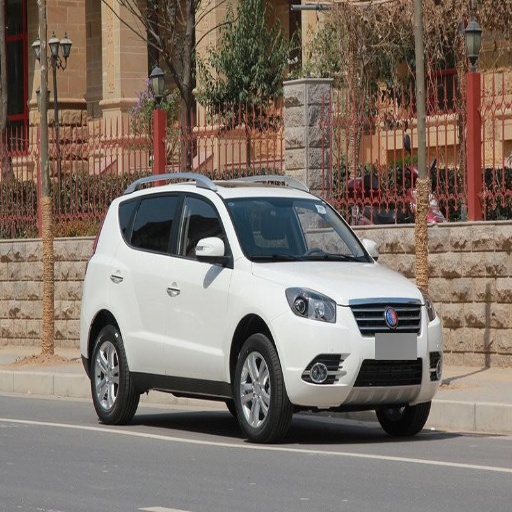front_bumper: (277, 298, 442, 408)
front_right_door: (166, 190, 232, 379)
front_right_light: (285, 288, 337, 321)
